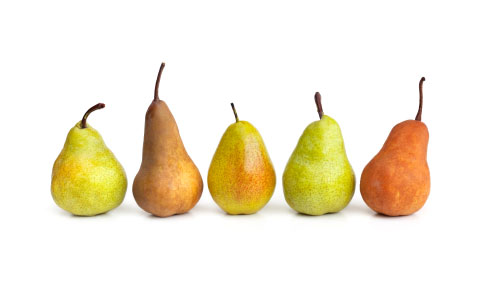pear: (132, 63, 202, 215), (361, 78, 439, 213), (284, 85, 351, 212), (51, 104, 126, 216), (210, 101, 275, 215)
